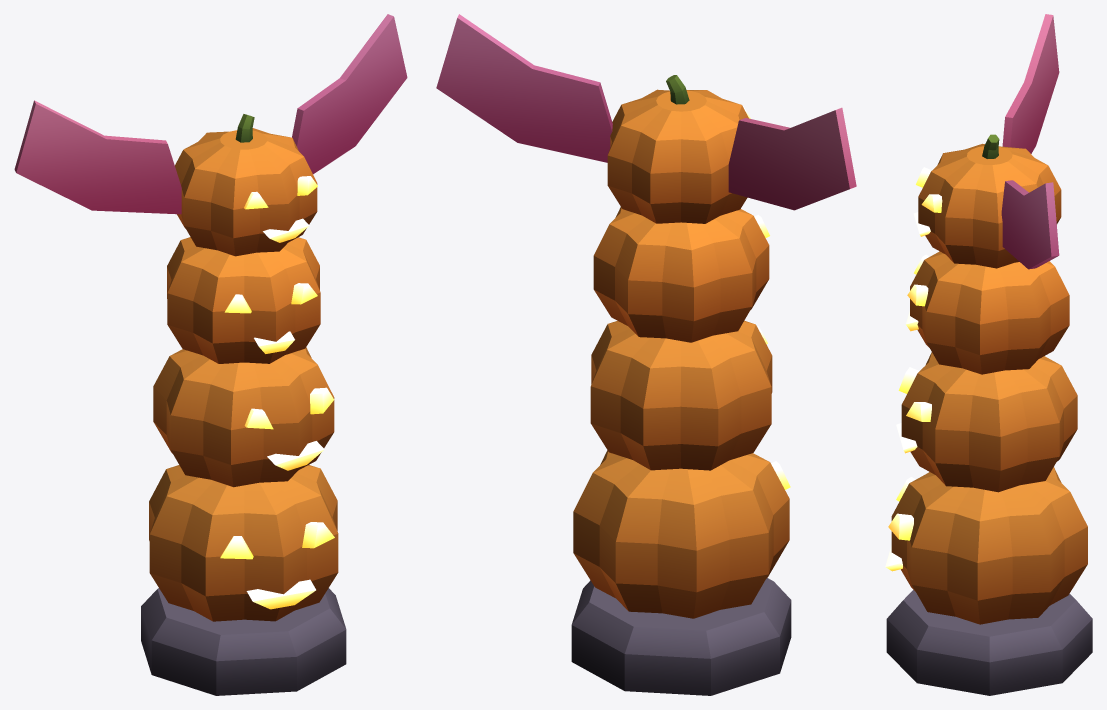
File: PlayGround_Kit_Totem_Pumpkin.fbx
The picture shows the model from 3 angles, left to right: view 1: azimuth 30°, elevation 25°; view 2: azimuth 150°, elevation 25°; view 3: azimuth 270°, elevation 25°; orthographic projection. The views are drawn at different scales.
Parts seen in each view (by area): view 1: PlayGround_Kit_Totem_Pumpkin; view 2: PlayGround_Kit_Totem_Pumpkin; view 3: PlayGround_Kit_Totem_Pumpkin.
Boxes of the visible parts, x1,y1,x2,y2 form: PlayGround_Kit_Totem_Pumpkin: (14, 14, 407, 695); PlayGround_Kit_Totem_Pumpkin: (436, 14, 856, 695); PlayGround_Kit_Totem_Pumpkin: (885, 14, 1092, 695).
Bounding box in the file's own units: 2.12 × 2.96 × 1.01.
